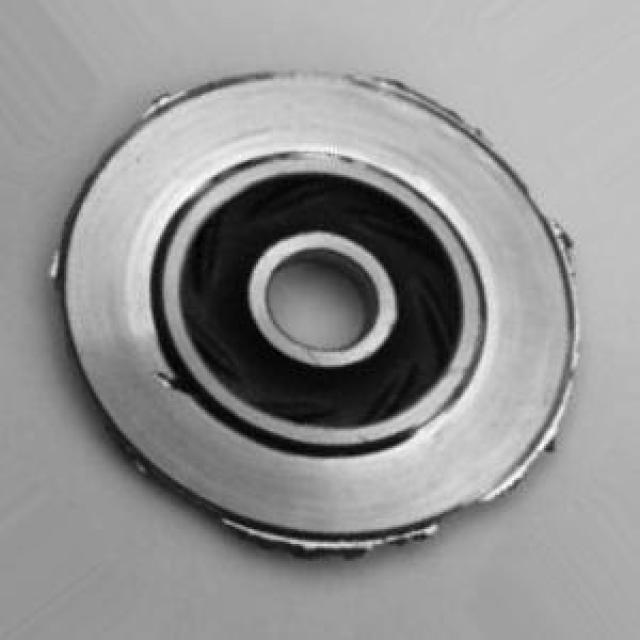Defect: (154, 360, 208, 399)
